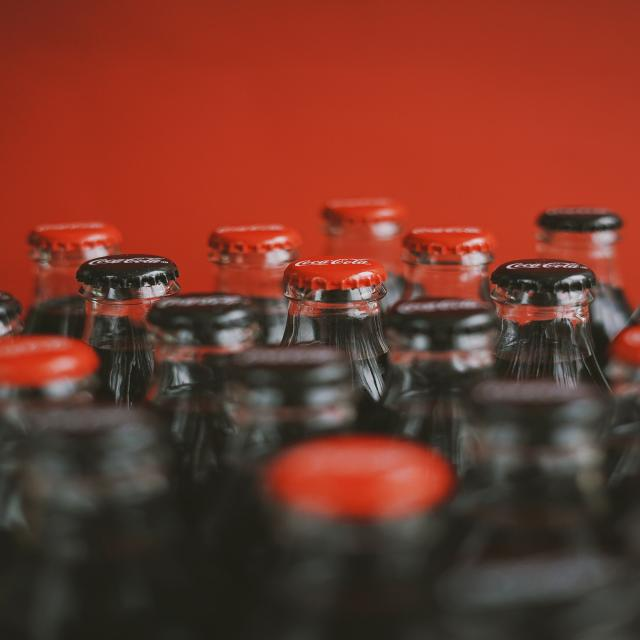Bottle: (435, 380, 638, 639), (0, 405, 200, 639), (243, 435, 455, 639), (206, 347, 356, 607), (147, 294, 259, 524), (385, 298, 498, 469), (0, 335, 99, 530), (282, 256, 390, 428), (491, 259, 609, 395), (226, 346, 356, 469), (77, 255, 179, 406), (537, 208, 630, 366), (26, 222, 122, 338), (209, 224, 301, 344), (322, 198, 405, 312), (403, 227, 495, 301), (605, 326, 639, 520), (606, 326, 639, 429), (0, 292, 23, 338)
